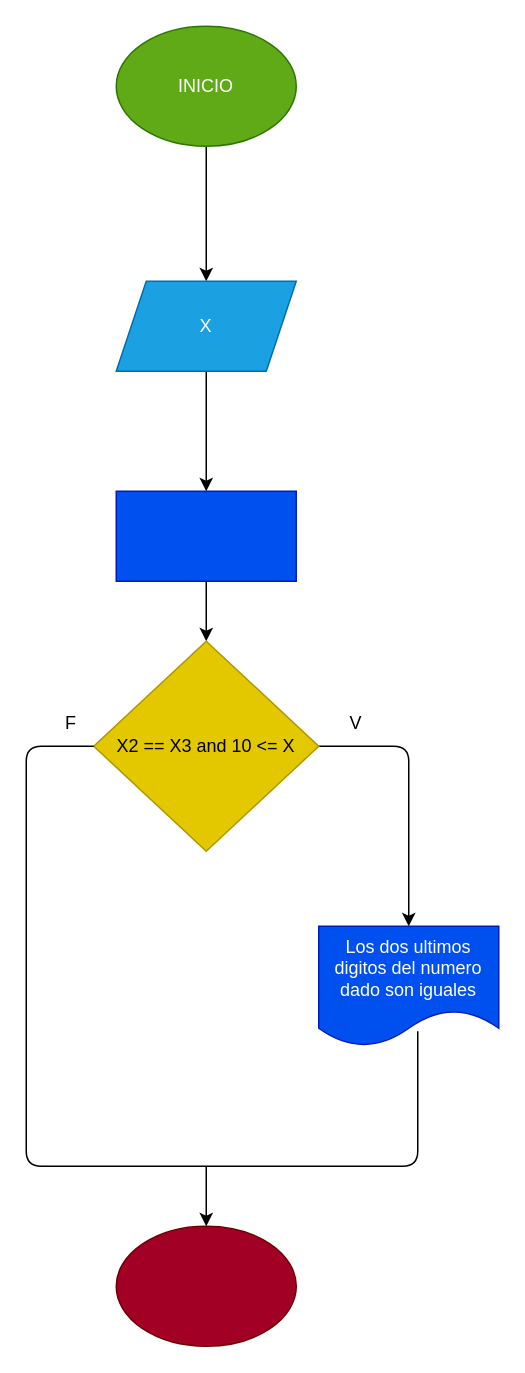
Some shapes in this 525 by 1373 pixel diagram are drawn without their labels. Each missing label, with the box of its shape:
FIN: (115, 1225, 296, 1346)
X1 = X % 100 X2 = X1 / 10 X3 = X % 10: (115, 490, 296, 581)
